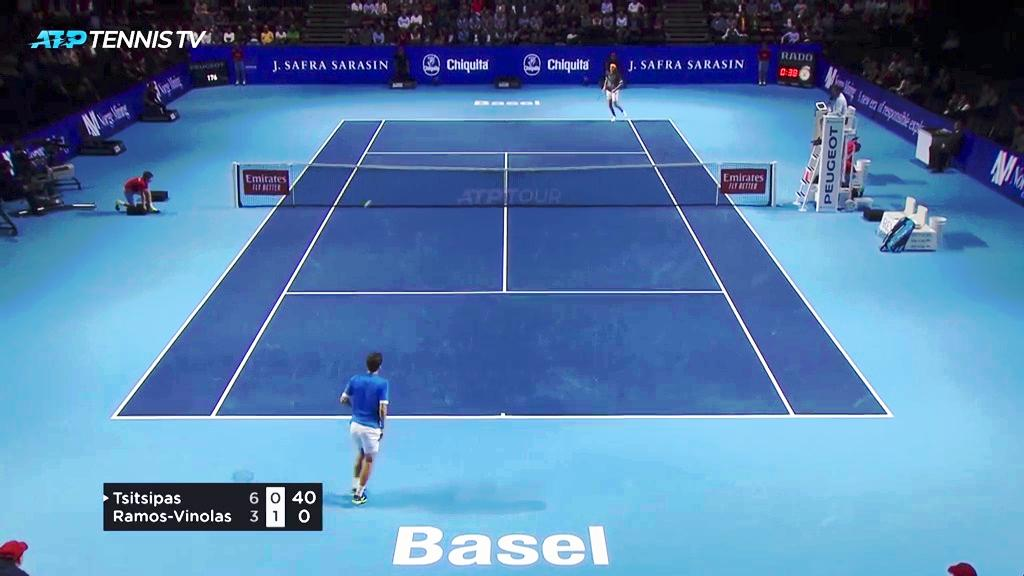tennis-court: (110, 118, 895, 419)
